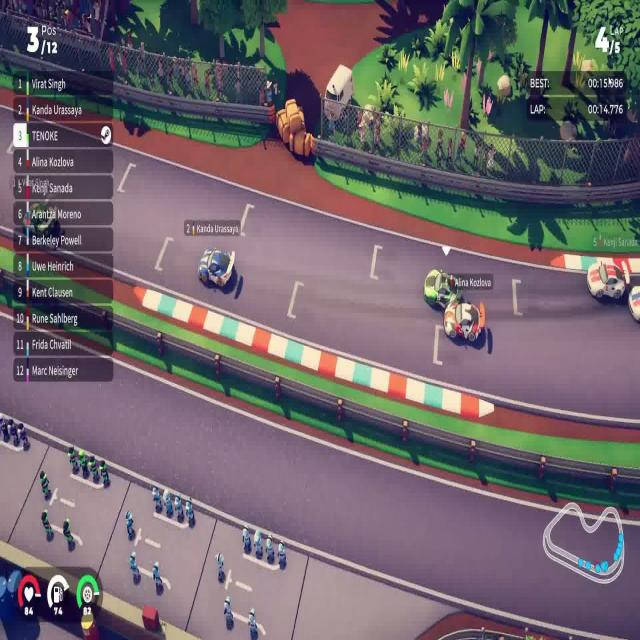car: (442, 296, 486, 344), (586, 258, 626, 303), (197, 246, 236, 289), (423, 267, 459, 312)
